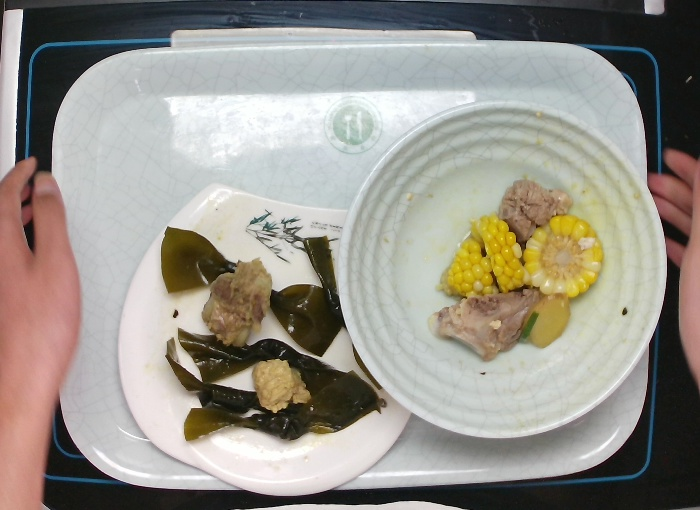JYsf-Da_Tang_Wan: (338, 97, 673, 437)
JYsf-Mian_Pan: (116, 185, 418, 495)
